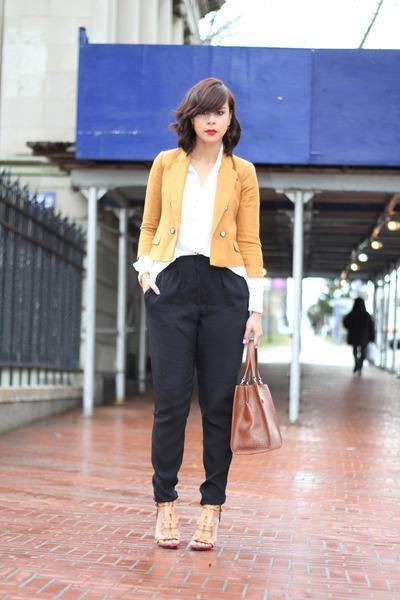jacket: (135, 146, 268, 278)
short sleeve shirt: (163, 148, 233, 270)
trousers: (136, 253, 253, 508)
